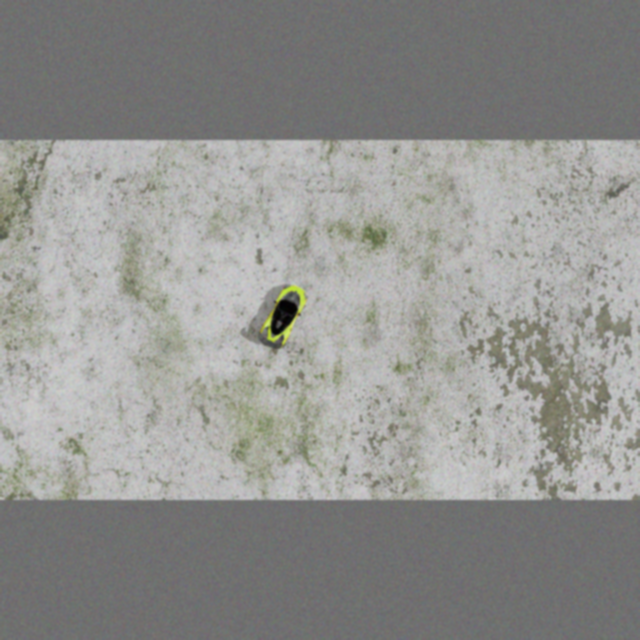car: (254, 278, 312, 352)
